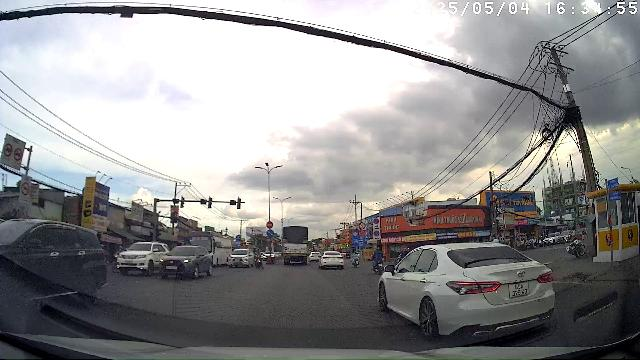102-cam-di-nguoc-chieu: (266, 221, 274, 228)
302a-huong-phai-di-vong-chuong-ngai-vat-1: (266, 229, 274, 238)
